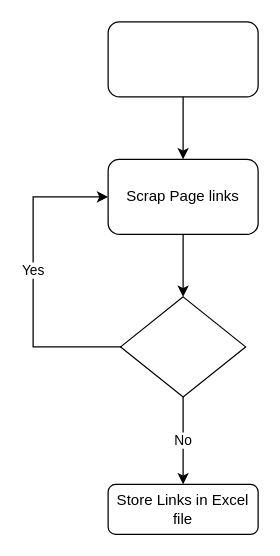
Some shapes in this 280 by 556 pixel diagram are drawn without their labels. Each missing label, with the centre of its shape:
"Look for Next Button" goes at pixel 182 346.
"Specific category pages" goes at pixel 182 59.
